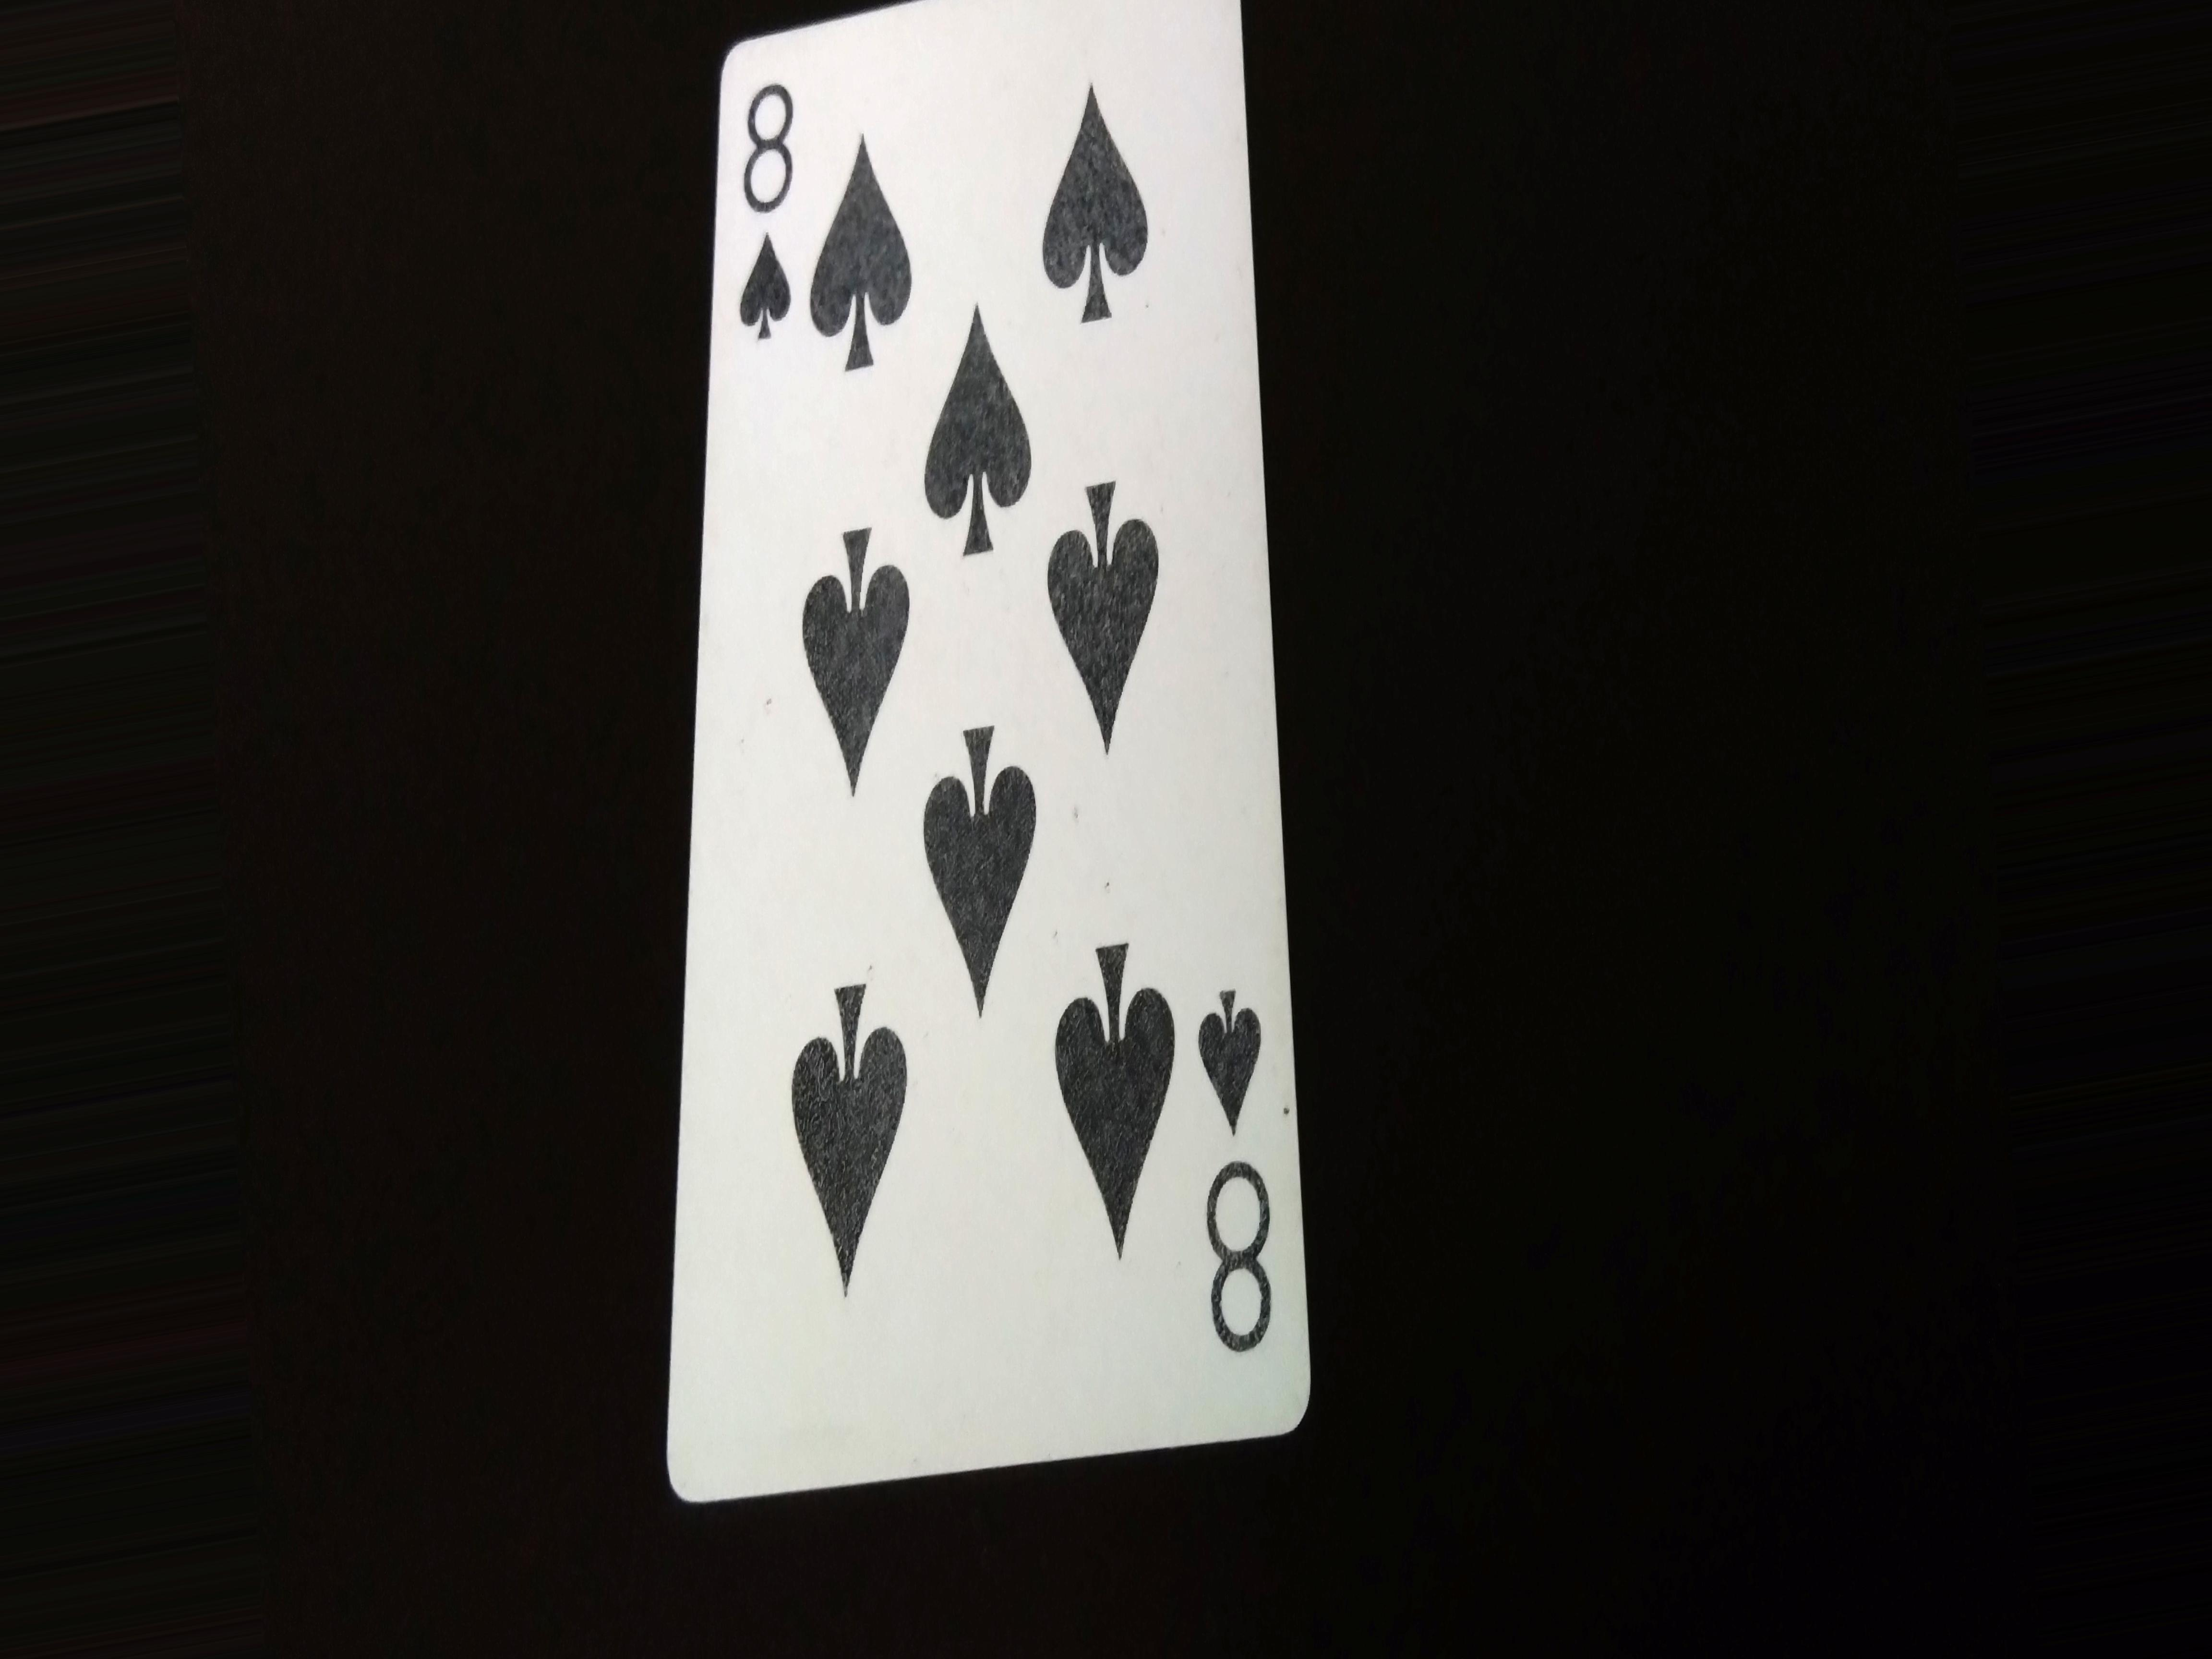8S: (733, 51, 813, 361)
